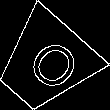O_SW: (12, 31, 78, 97)
